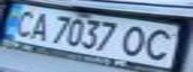0: (63, 16, 84, 48)
3: (81, 17, 103, 51)
7: (96, 19, 124, 53), (45, 12, 72, 46)
A: (24, 9, 54, 42)
C: (139, 26, 181, 62), (6, 7, 39, 38)
O: (118, 24, 154, 57)
